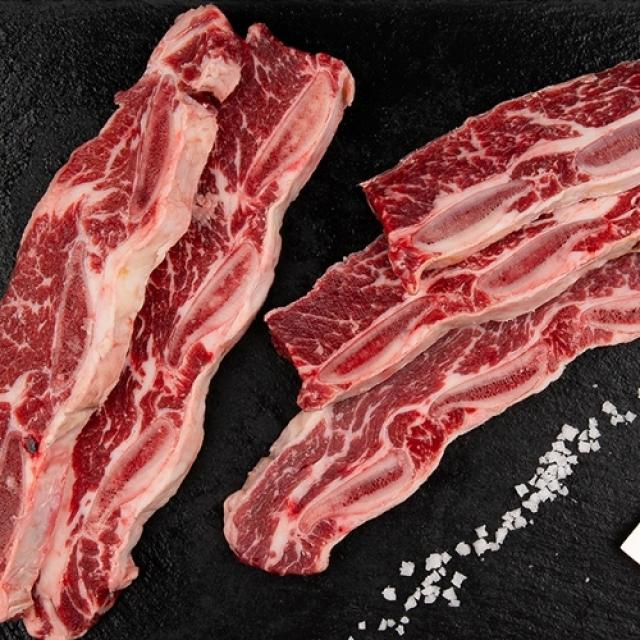pork: (286, 51, 640, 602), (2, 4, 300, 612)
